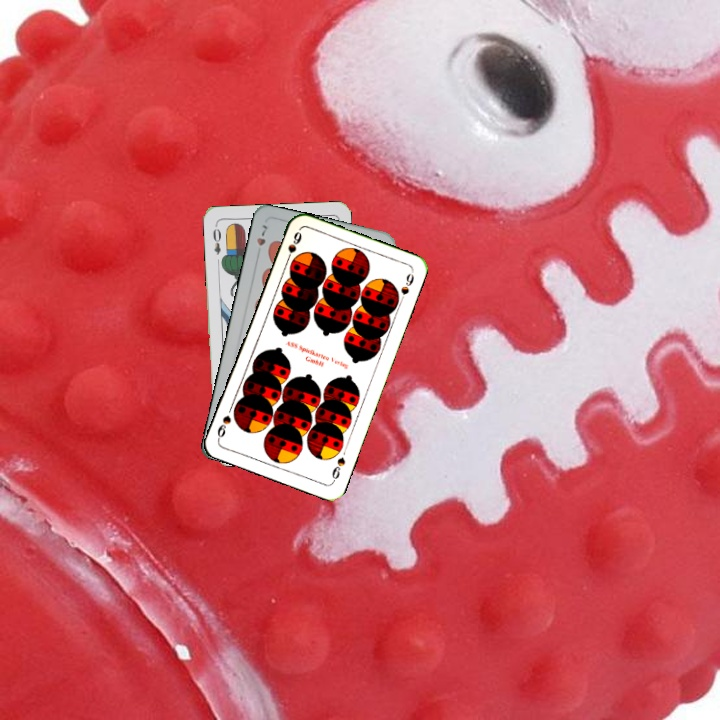EO: (209, 221, 224, 257)
H7: (252, 220, 270, 248)
S9: (282, 227, 304, 266), (328, 453, 348, 485)
